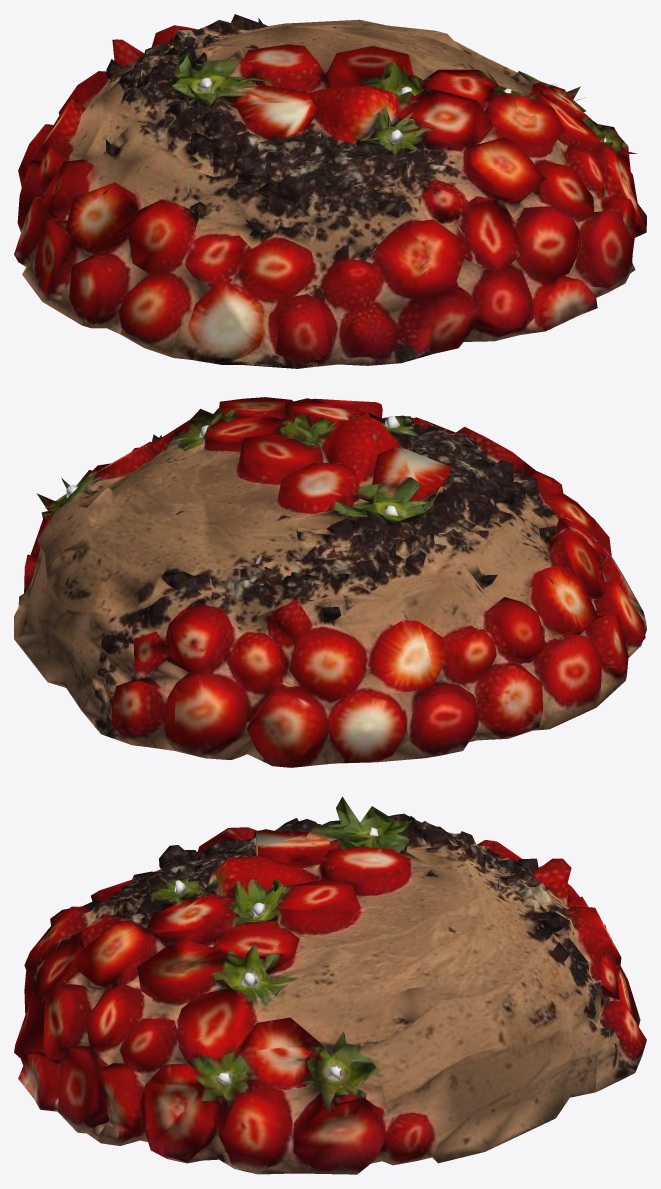
File: strawberry_chocolate_cake.glb
3 views of the same model, one above another, from view 1: azimuth 30°, elevation 25°; view 2: azimuth 150°, elevation 25°; view 3: azimuth 270°, elevation 25° (orthographic). The views are drawn at different scales.
Parts seen in each view (by area): view 1: strawberry_chocolate_cake; view 2: strawberry_chocolate_cake; view 3: strawberry_chocolate_cake.
Part boxes in pixels (x1,y1,x2,y2): strawberry_chocolate_cake: (14, 14, 646, 368); strawberry_chocolate_cake: (14, 397, 646, 767); strawberry_chocolate_cake: (14, 796, 646, 1174).
Bounding box in the file's own units: 0.2434 × 0.077 × 0.2402.
1 material, 1 textured.
